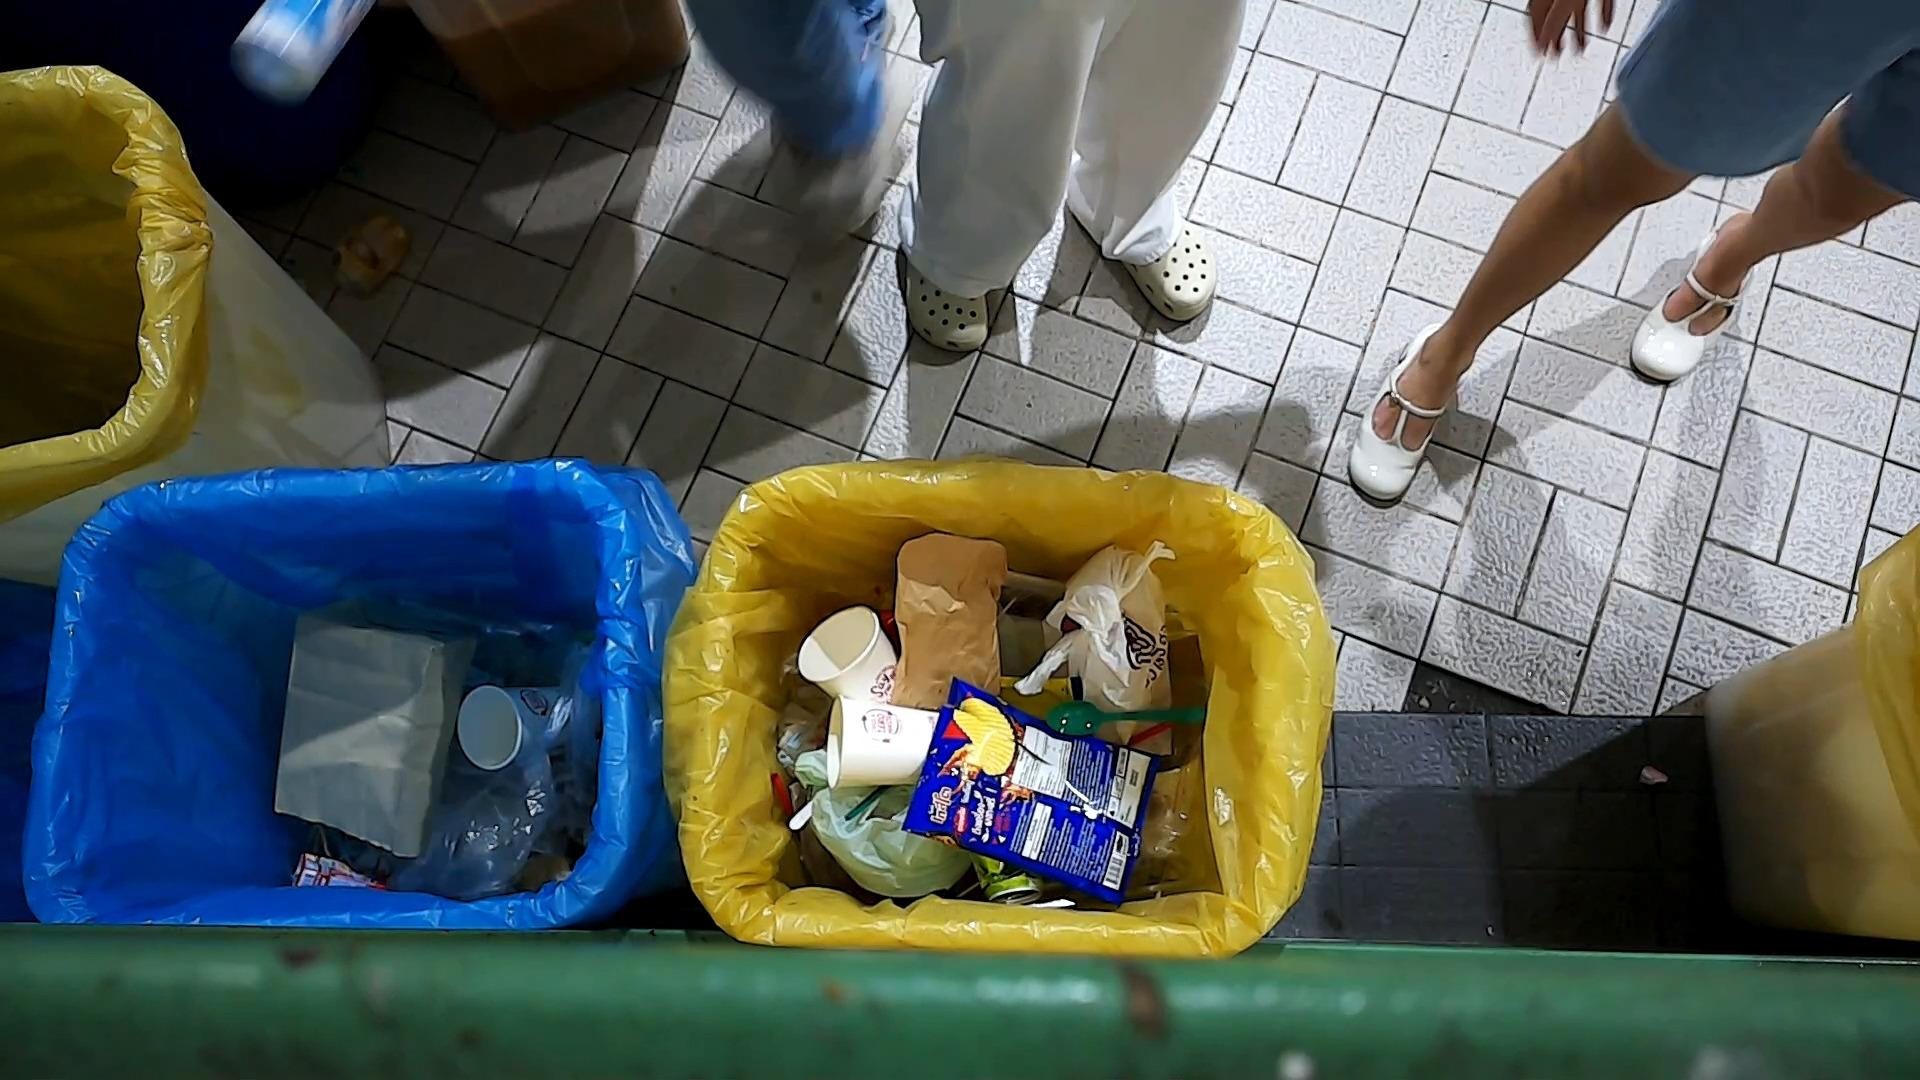can: (225, 0, 382, 112)
filled plastic bag: (1011, 534, 1182, 754), (790, 731, 975, 902)
milk carton: (289, 843, 394, 891)
paper bag: (274, 585, 492, 858), (889, 530, 1011, 716)
plastic bag: (398, 735, 570, 905)
plastic cutlery: (1043, 694, 1208, 740)
snack packaging: (899, 674, 1167, 916), (992, 670, 1088, 724)
zero waste cup: (820, 691, 943, 796), (451, 680, 575, 777), (795, 600, 899, 713)
